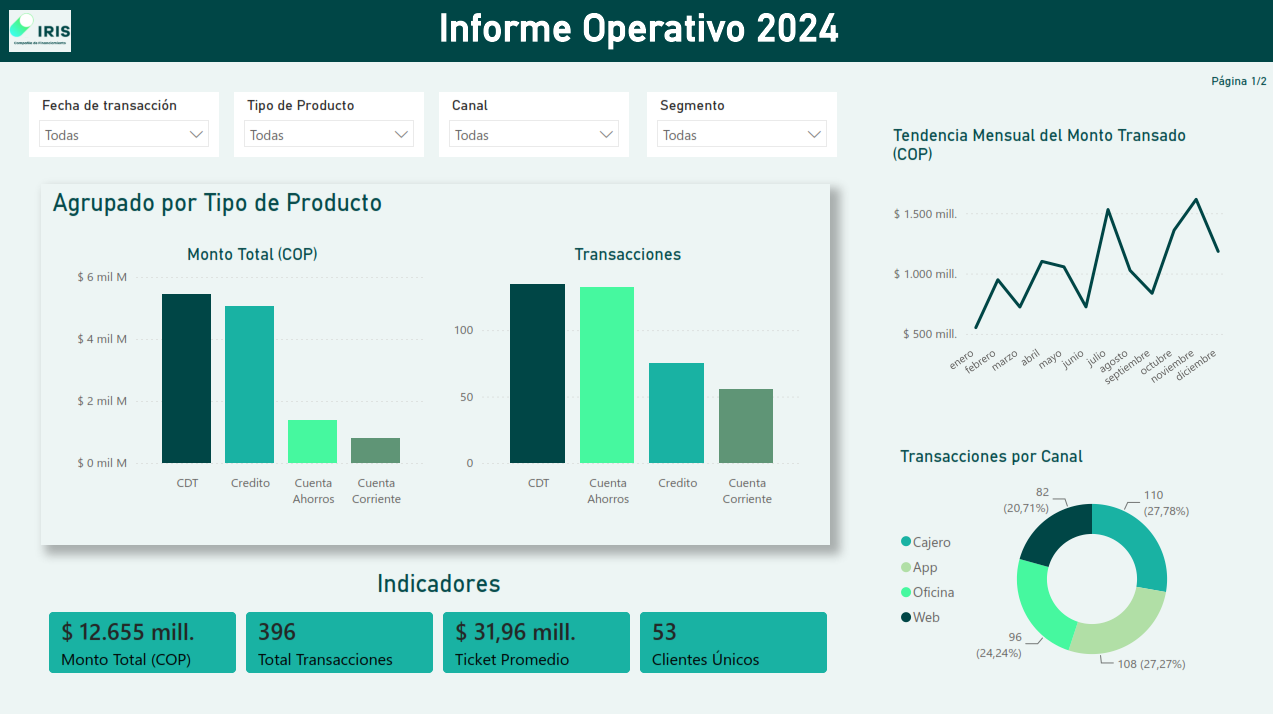

The page's visual inventory and layout, read from the dashboard file:
{"tool":"powerbi","page":{"name":"Evolución del Negocio","canvas":[1280,720],"ordinal":0},"visuals":[{"type":"textbox","box":[42,184,789,361],"z":0},{"type":"shape","box":[82,0,1198,62],"z":1000},{"type":"image","box":[0,0,82,62],"z":2000},{"type":"textbox","box":[0,0,1280,65.7],"z":3000},{"type":"lineChart","title":"Tendencia Mensual del Monto Transado (COP)","fields":{"Category":["consolidado.fecha.Variación.Jerarquía de fechas.Mes"],"Y":["_Medidas.Monto Total (COP)"]},"box":[889,125,344,273],"z":4000},{"type":"slicer","fields":{"Values":["consolidado.fecha.Variación.Jerarquía de fechas.Mes","consolidado.fecha.Variación.Jerarquía de fechas.Día"]},"box":[30,92,190,65],"z":5000},{"type":"slicer","fields":{"Values":["consolidado.tipo_producto"]},"box":[235,92,190,65],"z":6000},{"type":"slicer","fields":{"Values":["consolidado.canal"]},"box":[440,92,190,65],"z":7000},{"type":"slicer","fields":{"Values":["consolidado.segmento"]},"box":[648,92,190,65],"z":8000},{"type":"cardVisual","title":"Indicadores","fields":{"Data":["_Medidas.Monto Total (COP)","_Medidas.Total Transacciones","_Medidas.Ticket Promedio","_Medidas.Clientes Únicos"]},"box":[30,570,820,123],"z":9000},{"type":"clusteredColumnChart","title":"Transacciones","fields":{"Category":["consolidado.tipo_producto"],"Y":["_Medidas.Total Transacciones"]},"box":[449,244,360,270],"z":10000},{"type":"clusteredColumnChart","title":"Monto Total (COP)","fields":{"Category":["consolidado.tipo_producto"],"Y":["_Medidas.Monto Total (COP)"]},"box":[73,244,360,270],"z":11000},{"type":"donutChart","title":"Transacciones por Canal","fields":{"Category":["consolidado.canal"],"Y":["_Medidas.Total Transacciones"]},"box":[896,446,330,247],"z":12000},{"type":"textbox","box":[1178,66,95,33],"z":13000}]}

Visuals, with their boxes in screenshot pixels (x1, y1, x2, y2), scaled from the page's 1280x720 canvas onto the 1273x714 screenshot:
textbox: Rect(42, 182, 826, 540)
shape: Rect(82, 0, 1272, 61)
image: Rect(0, 0, 82, 61)
textbox: Rect(0, 0, 1272, 65)
"Tendencia Mensual del Monto Transado (COP)" lineChart: Rect(884, 124, 1226, 395)
slicer - consolidado.fecha.Variación.Jerarquía de fechas.Mes x consolidado.fecha.Variación.Jerarquía de fechas.Día: Rect(30, 91, 219, 156)
slicer - consolidado.tipo_producto: Rect(234, 91, 423, 156)
slicer - consolidado.canal: Rect(438, 91, 627, 156)
slicer - consolidado.segmento: Rect(644, 91, 833, 156)
"Indicadores" cardVisual: Rect(30, 565, 845, 687)
"Transacciones" clusteredColumnChart: Rect(447, 242, 805, 510)
"Monto Total (COP)" clusteredColumnChart: Rect(73, 242, 431, 510)
"Transacciones por Canal" donutChart: Rect(891, 442, 1219, 687)
textbox: Rect(1172, 65, 1266, 98)
